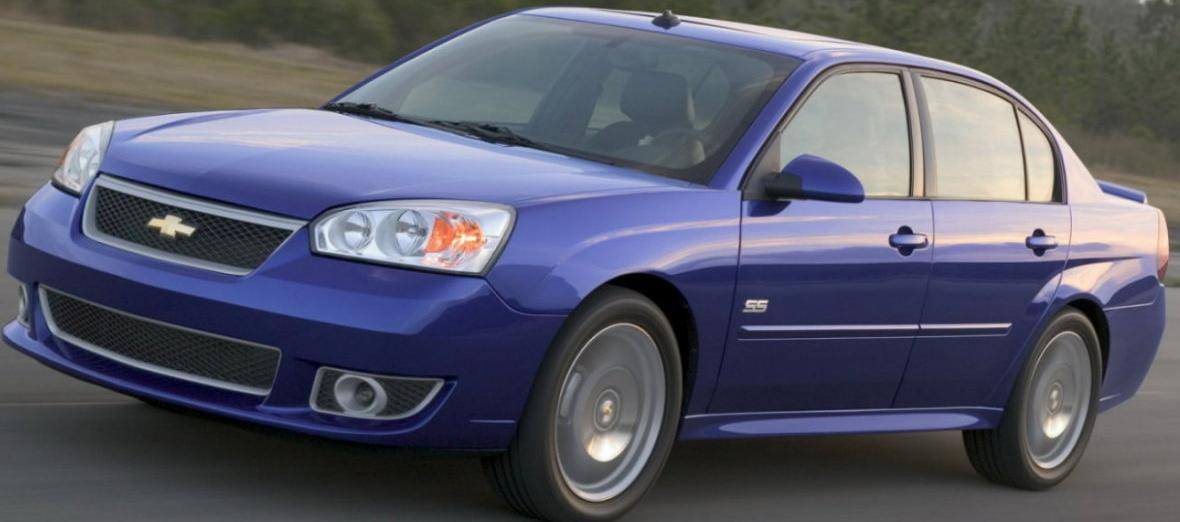backlight: (1143, 198, 1179, 284)
front_view: (13, 118, 511, 441)
headlight: (292, 181, 506, 290)
side_glass: (756, 56, 1069, 216)
